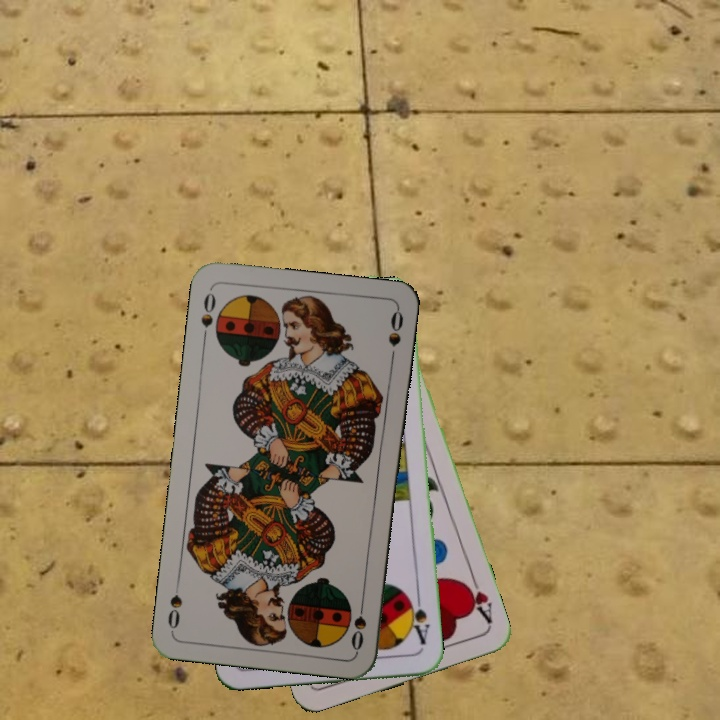HA: (459, 572, 495, 629)
SA: (404, 591, 432, 647)
SO: (347, 594, 369, 653), (197, 285, 218, 344)
